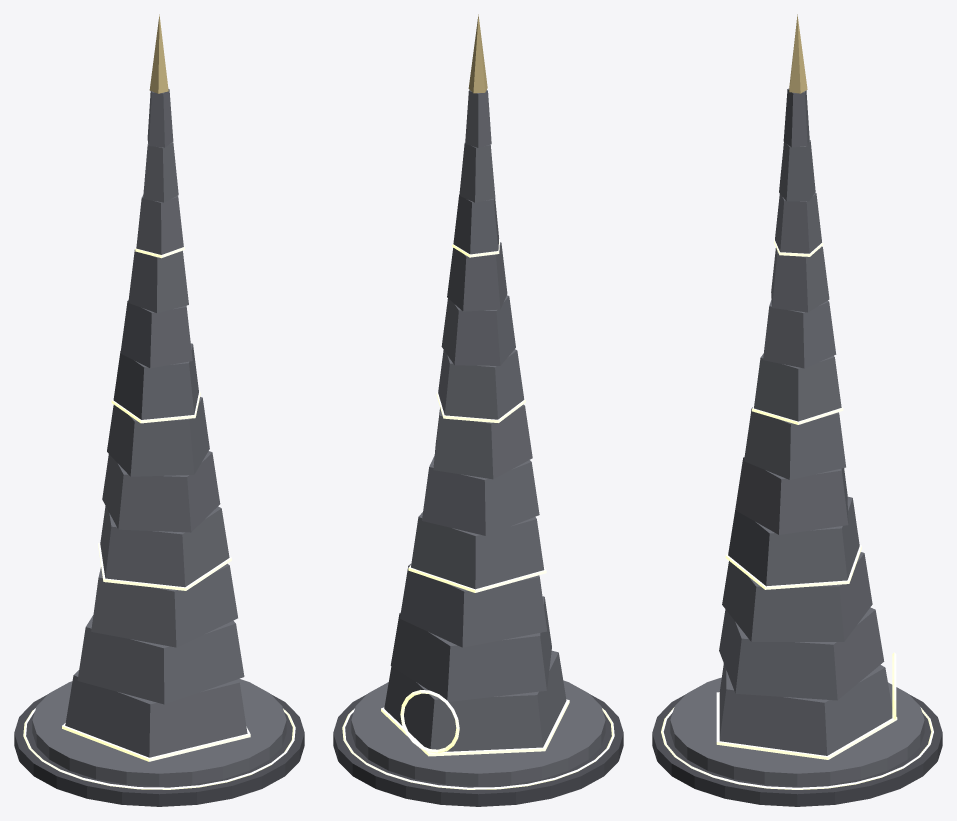
The model's file is zone_high_1.glb.
The picture shows the model from 3 angles, left to right: view 1: azimuth 30°, elevation 25°; view 2: azimuth 150°, elevation 25°; view 3: azimuth 270°, elevation 25°; orthographic projection.
Parts seen in each view (by area): view 1: zone_high_1; view 2: zone_high_1; view 3: zone_high_1.
Part boxes in pixels (x1,y1,x2,y2): zone_high_1: [14, 14, 304, 806]; zone_high_1: [333, 14, 623, 806]; zone_high_1: [652, 14, 942, 806].
Bounding box in the file's own units: 28.8 × 80.02 × 28.8.
